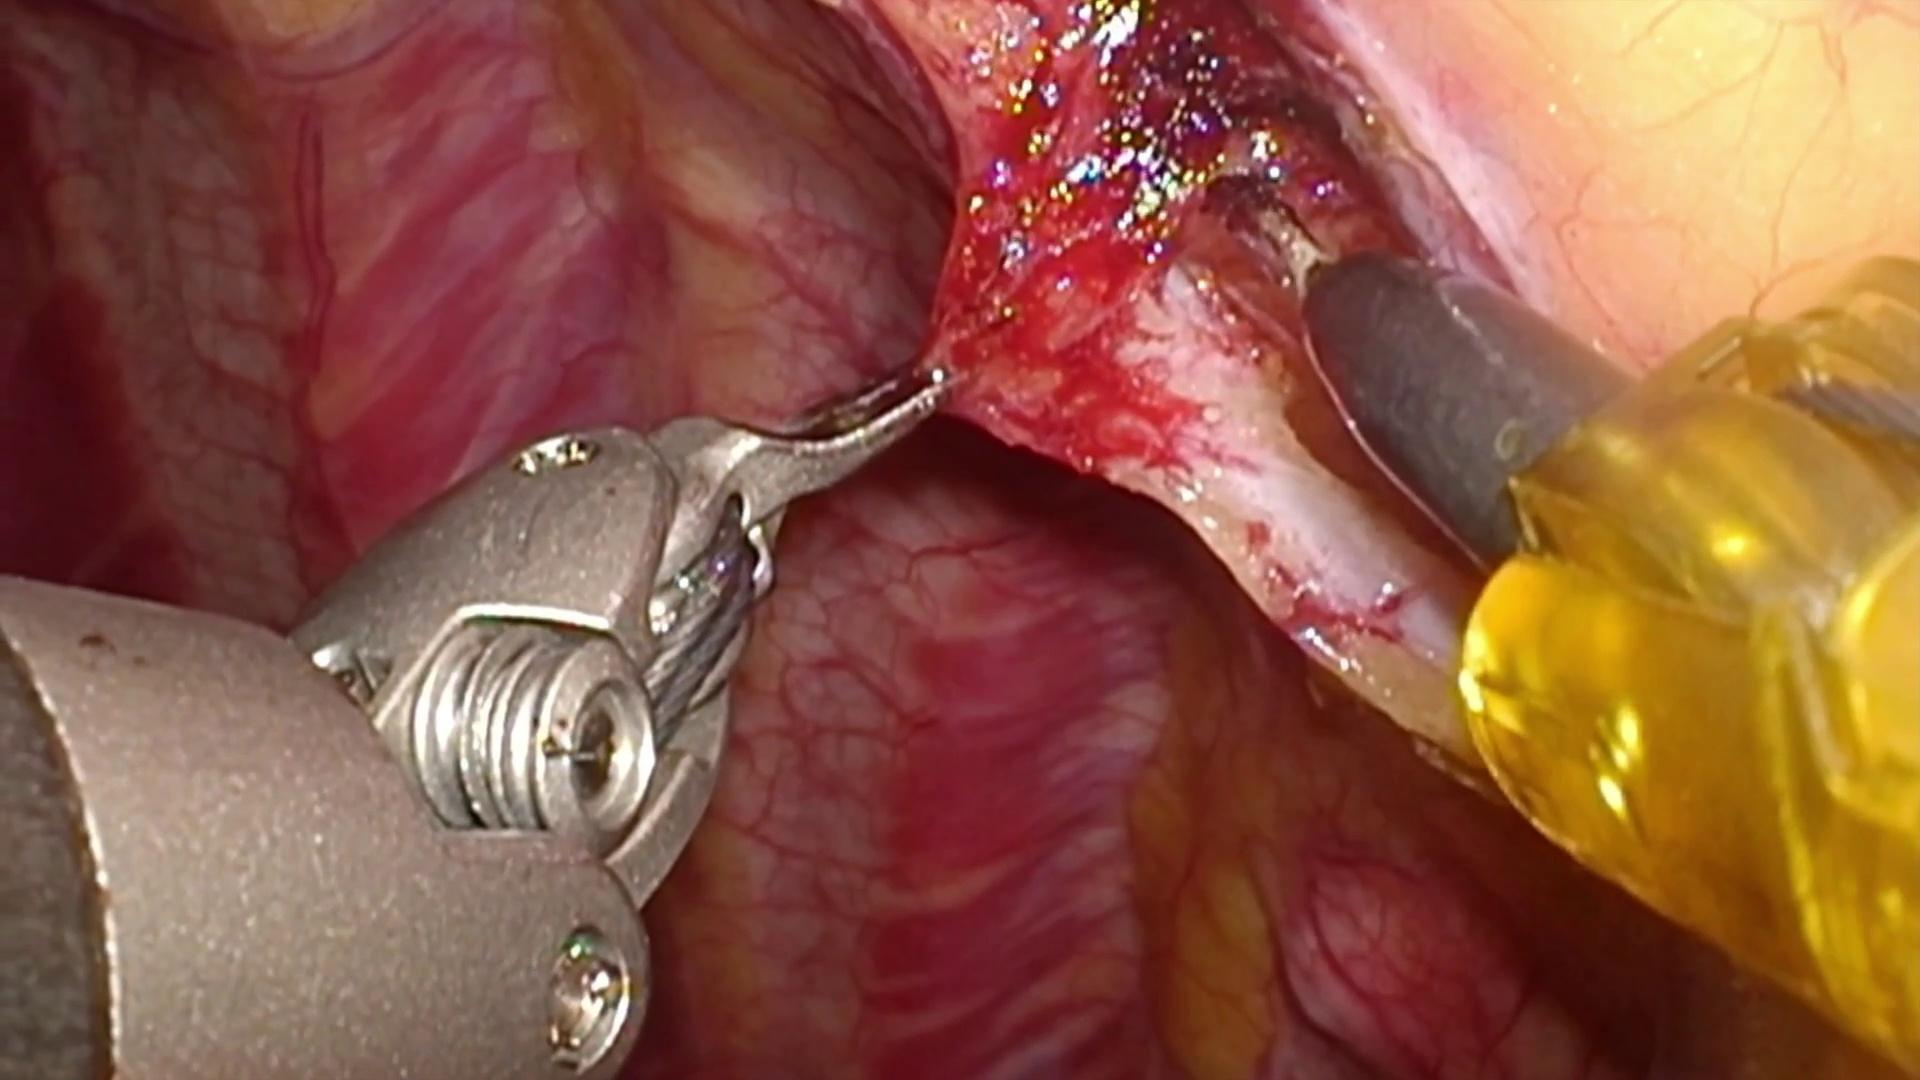Cautery_Spatula: (1212, 182, 1643, 574)
Debakey: (659, 344, 965, 596)
